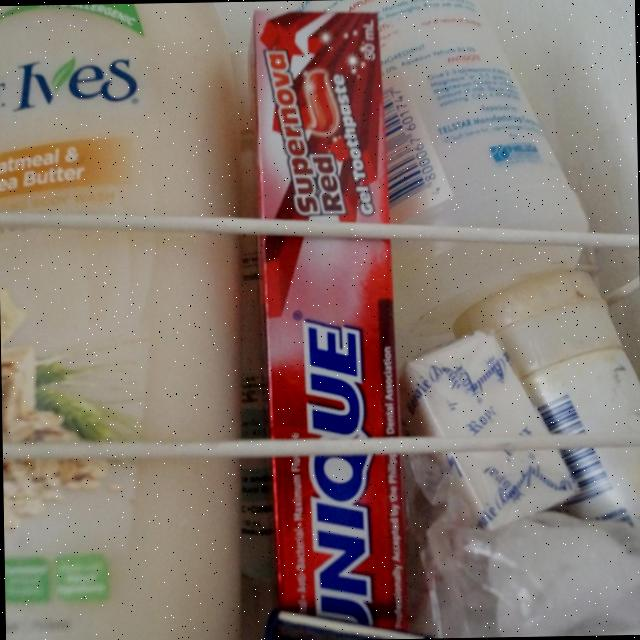Toothpaste: (243, 1, 427, 639)
